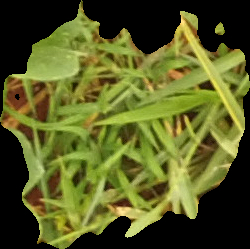grass: (1, 1, 248, 247)
